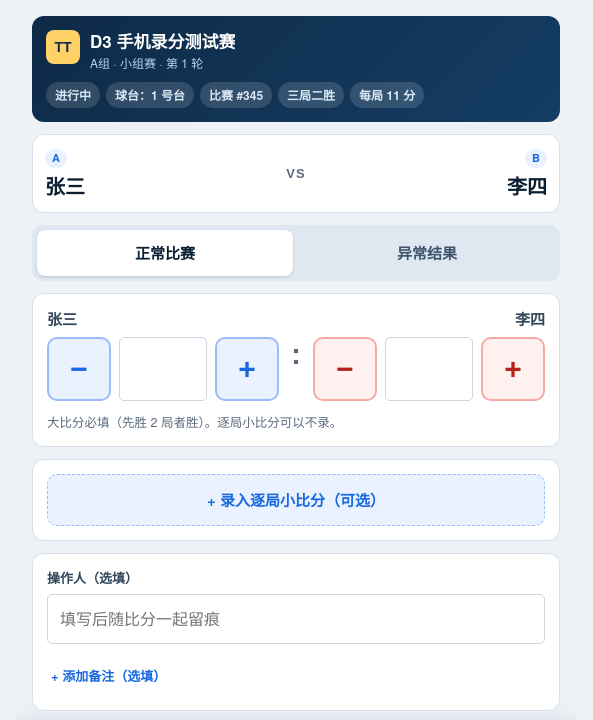
Test case: 正常比分：只录大比分 › score POST 网络失败后自动用同一 request_id 重试
expect the text "D3 手机录分测试赛" is shown: met, box [90, 30, 236, 52]
Type "2" into the number field named "张三 大比分" at x=163, y=369, box [119, 337, 207, 401]
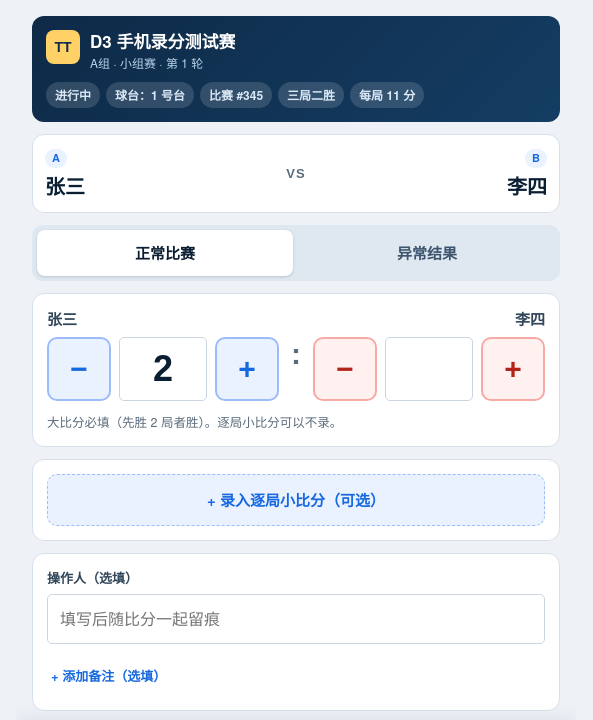
Type "1" into the number field named "李四 大比分" at x=429, y=369, box [385, 337, 473, 401]
(page scrolled)
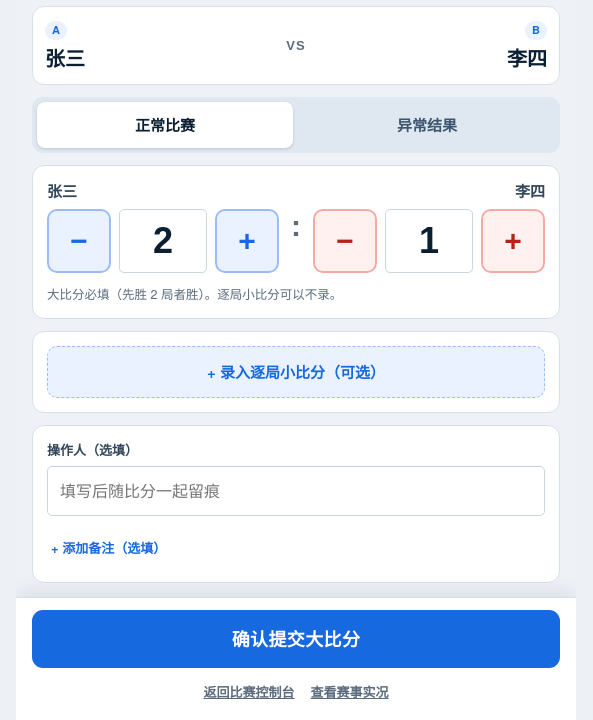
Click the button "确认提交大比分" at x=296, y=639, box [32, 610, 560, 668]
(page scrolled)
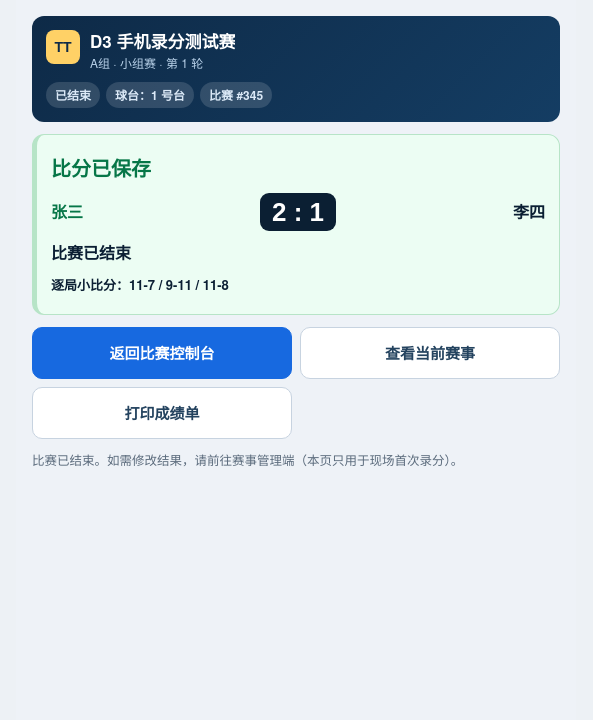
expect the text "比分已保存" is shown: met, box [51, 153, 151, 182]
expect the button "确认提交大比分" is gone: met
